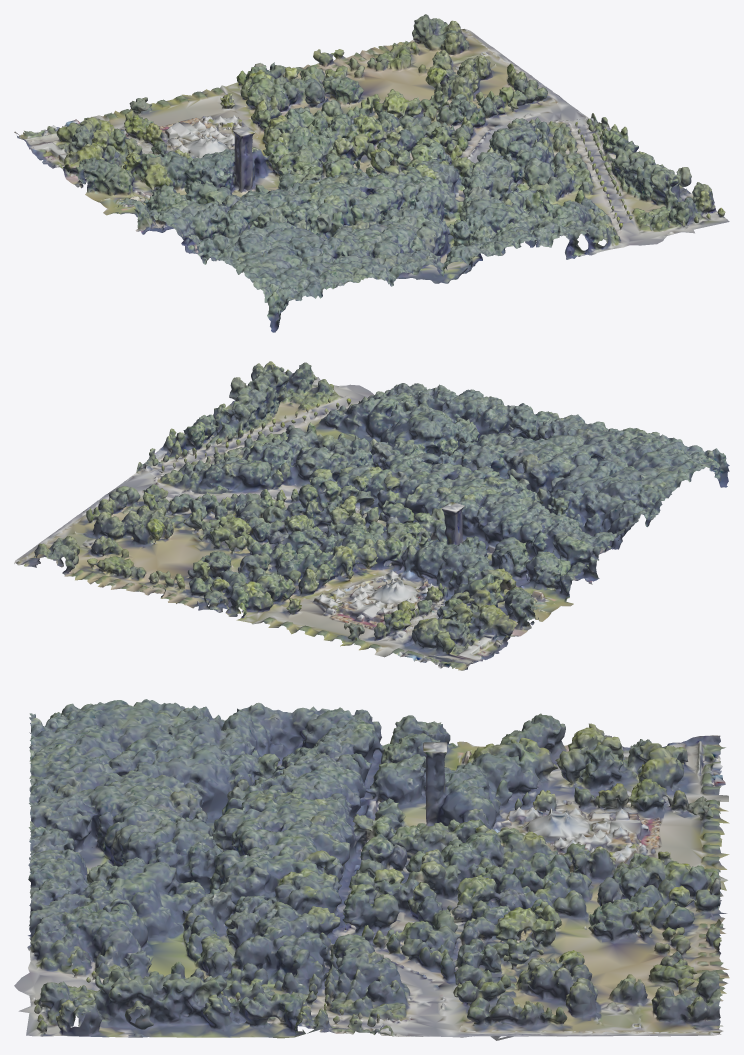
File: surface-detail-3890_58196.glb
3 renders of one model, top to bottom at view 1: azimuth 30°, elevation 25°; view 2: azimuth 150°, elevation 25°; view 3: azimuth 270°, elevation 25°, orthographic. The views are drawn at different scales.
Visible parts, largest first — view 1: world; view 2: world; view 3: world.
Boxes of the visible parts, <box> form: world: <box>14,14,729,332</box>; world: <box>14,361,729,670</box>; world: <box>14,699,729,1040</box>.
Bounding box in the file's own units: 368 × 46.89 × 375.
